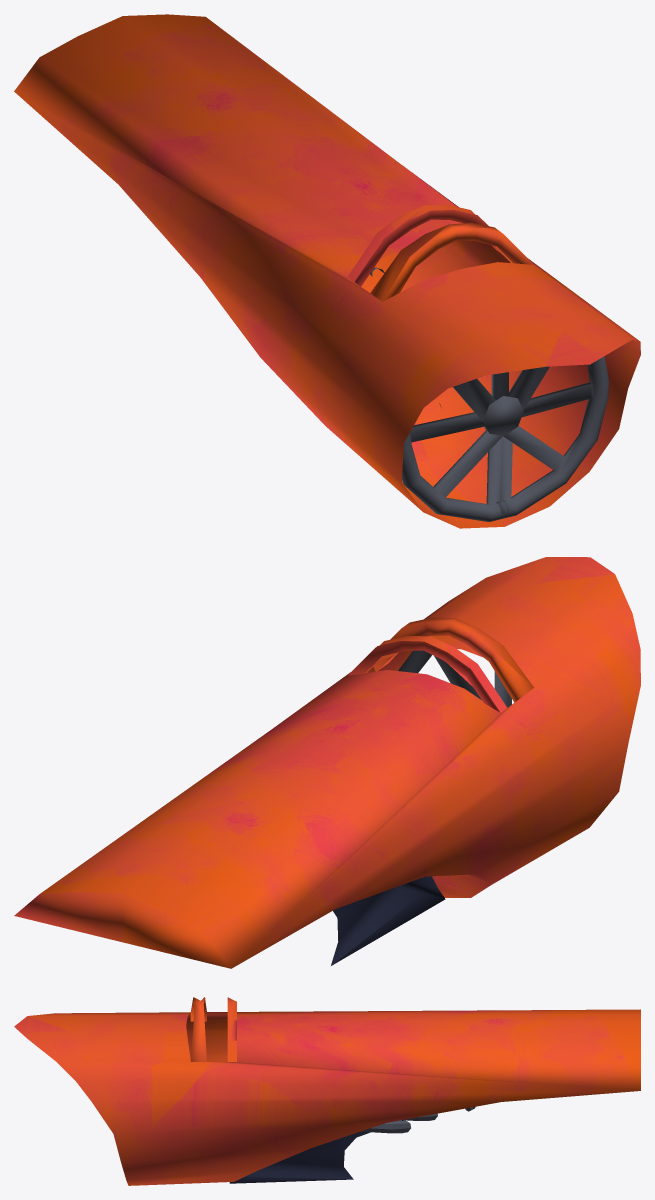
The model's file is pod_front.fbx.
The picture shows the model from 3 angles, top to bottom: view 1: azimuth 30°, elevation 25°; view 2: azimuth 150°, elevation 25°; view 3: azimuth 270°, elevation 25°; orthographic projection. The views are drawn at different scales.
Visible parts, largest first — view 1: Circle.001; view 2: Circle.001; view 3: Circle.001.
Part boxes in pixels (box(x1,y1,x2,y2)): Circle.001: box(14, 14, 640, 528); Circle.001: box(14, 557, 640, 968); Circle.001: box(14, 997, 640, 1185).
Bounding box in the file's own units: 76.3 × 85.3 × 276.
